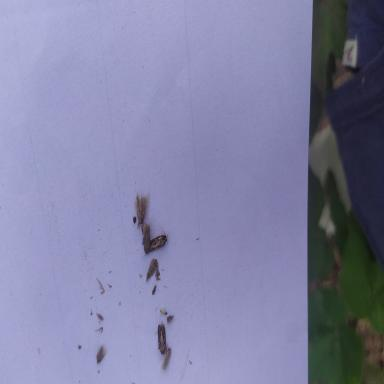pbw: (134, 189, 150, 228), (149, 224, 168, 252), (157, 320, 168, 354), (142, 222, 150, 258), (146, 257, 157, 281), (160, 346, 171, 370)
